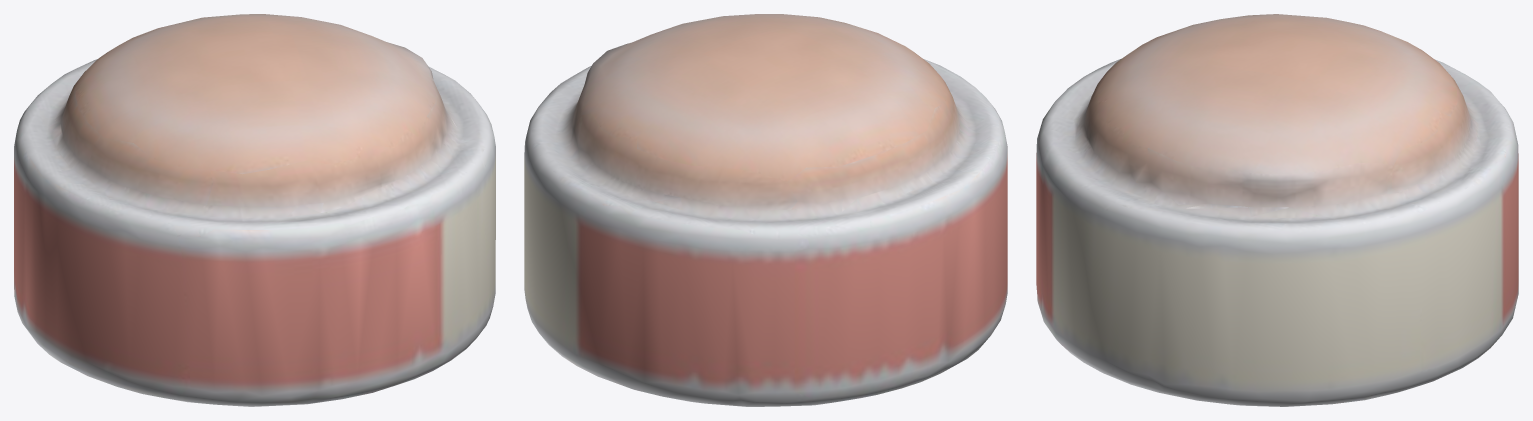
The model's file is can_food.glb.
3 renders of one model, left to right at view 1: azimuth 30°, elevation 25°; view 2: azimuth 150°, elevation 25°; view 3: azimuth 270°, elevation 25°, orthographic.
Visible parts, largest first — view 1: can_food.001; view 2: can_food.001; view 3: can_food.001.
Boxes of the visible parts, left/top/right/bottom form: can_food.001: left=14, top=14, right=495, bottom=406; can_food.001: left=524, top=14, right=1007, bottom=406; can_food.001: left=1036, top=14, right=1518, bottom=406.
Bounding box in the file's own units: 0.084 × 0.05 × 0.084.
Materials: 1 (1 with a texture image).
